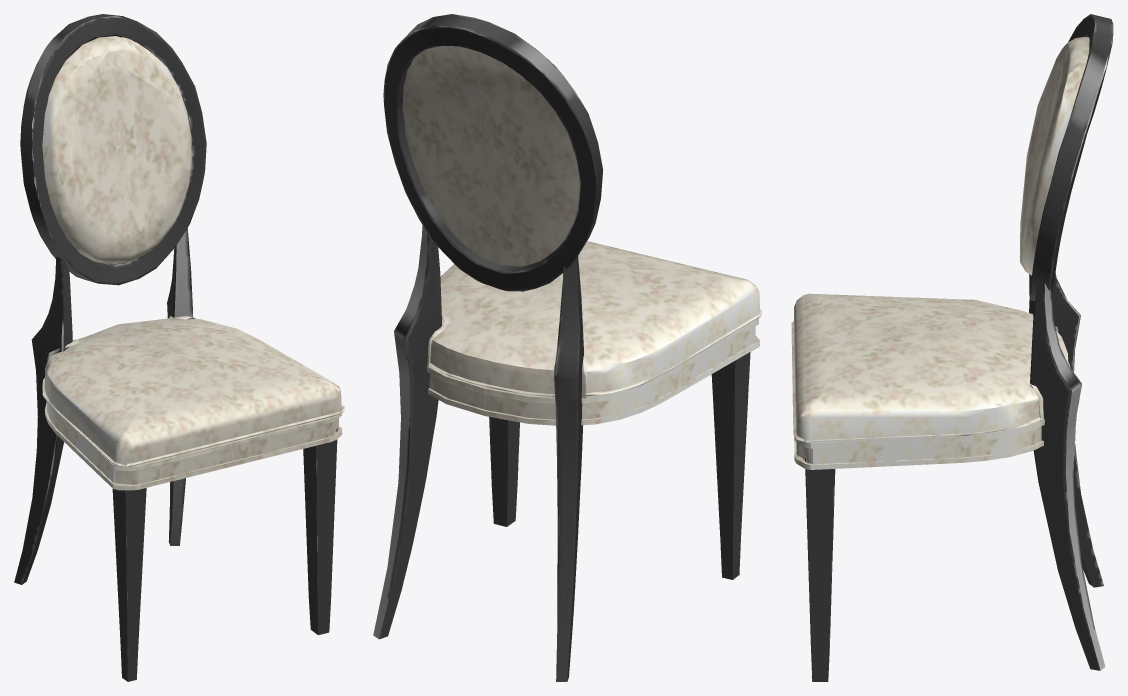
File: raw_model.obj
3 views of the same model, side by side, from view 1: azimuth 30°, elevation 25°; view 2: azimuth 150°, elevation 25°; view 3: azimuth 270°, elevation 25° (orthographic). The views are drawn at different scales.
Parts seen in each view (by area): view 1: solid_002, solid_001; view 2: solid_002, solid_001; view 3: solid_002, solid_001.
Boxes of the visible parts, box(x1,y1,x2,y2) form: solid_002: box(42, 36, 344, 490); solid_001: box(14, 14, 337, 681); solid_002: box(402, 46, 762, 425); solid_001: box(373, 14, 750, 681); solid_002: box(791, 37, 1089, 469); solid_001: box(805, 14, 1113, 681).
Bounding box in the file's own units: 0.4109 × 0.9253 × 0.4484.
Materials: 1 (1 with a texture image).
